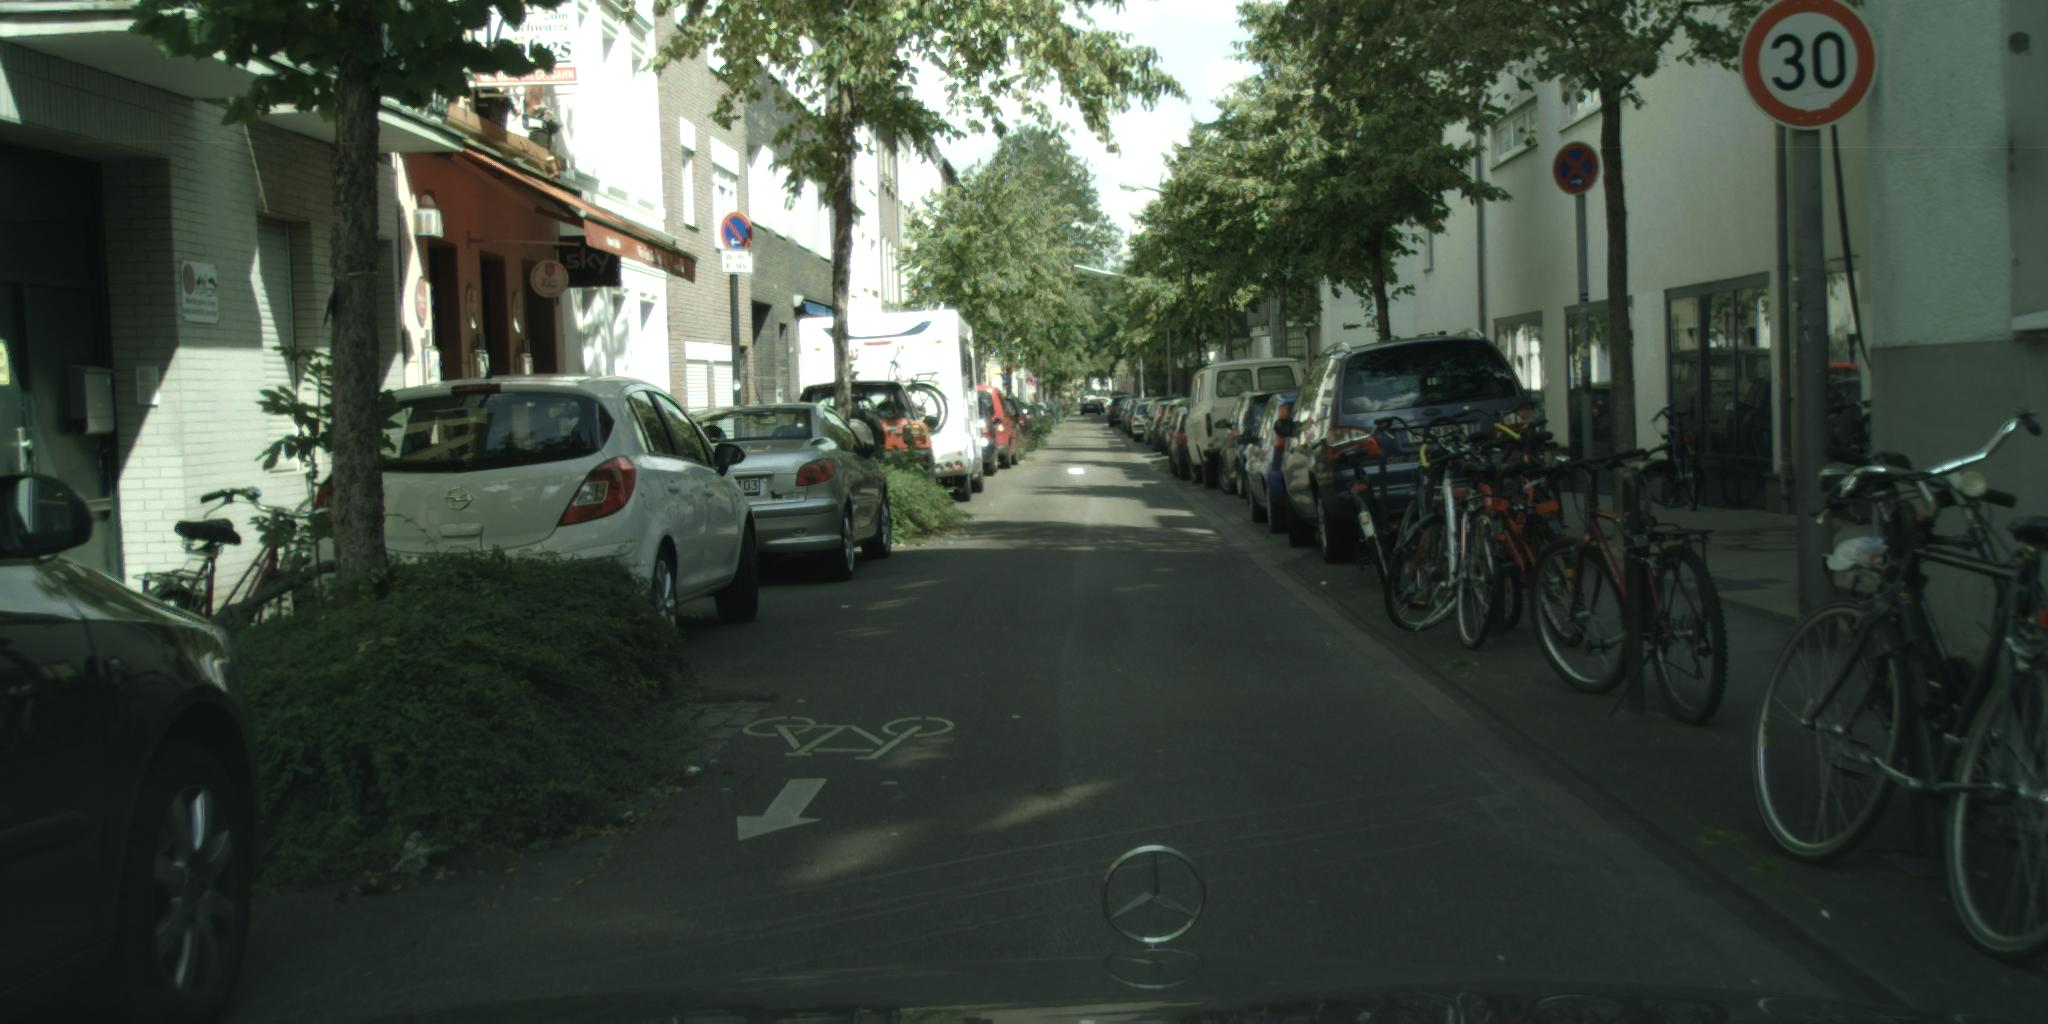bicycle: (1524, 445, 1735, 729), (1368, 411, 1514, 654), (138, 485, 351, 632), (1307, 421, 1398, 598), (1637, 400, 1708, 517)
car: (1, 470, 268, 1021), (302, 374, 761, 647), (1273, 327, 1567, 567), (687, 402, 895, 586), (786, 381, 942, 491), (1185, 359, 1310, 492), (1213, 387, 1311, 502), (1236, 391, 1305, 536), (973, 385, 1025, 472), (1152, 397, 1196, 457), (974, 392, 1004, 478), (1143, 394, 1186, 453), (1164, 405, 1196, 481), (1002, 397, 1040, 455), (1128, 397, 1164, 445), (1102, 391, 1132, 421), (1108, 396, 1134, 428), (1121, 397, 1142, 434), (1080, 396, 1108, 421), (1059, 398, 1074, 418)
